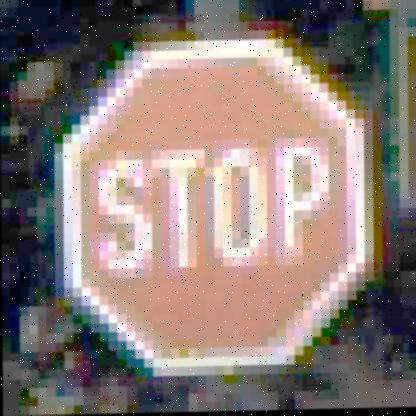Stop Sign: (58, 34, 377, 379)
